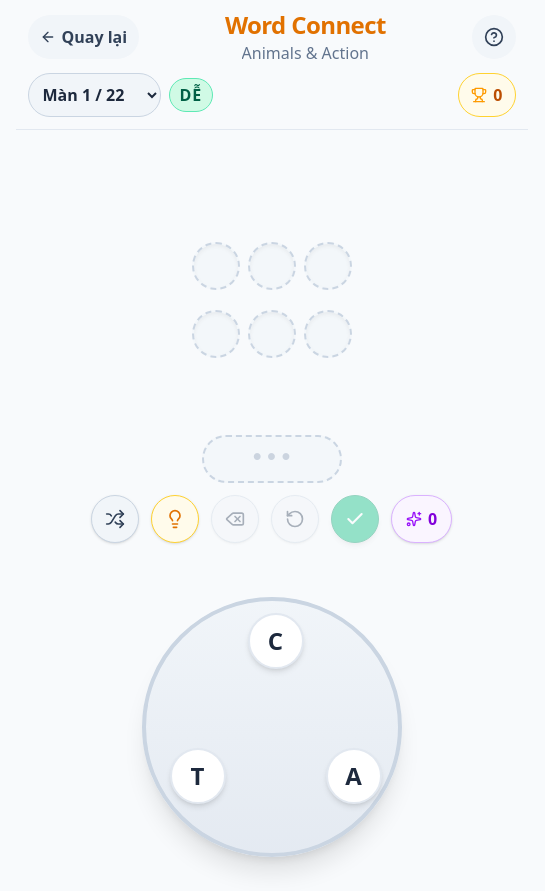
Test case: WordConnectPage Integration Suite › supports backspace and clear controls during letter selection
The width and height of the screenshot is (545, 891).
Click the button named "Chữ cái C" at (276, 641), box [248, 613, 304, 669]
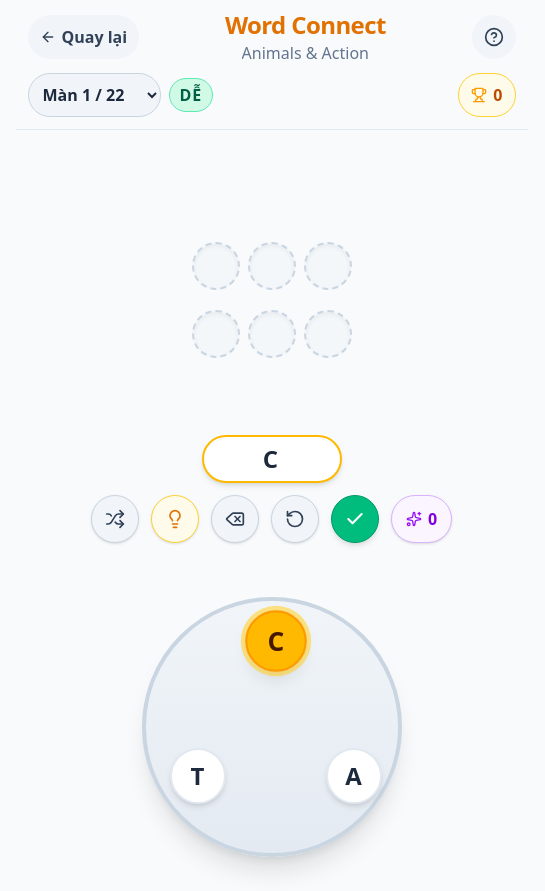
Click the button named "Chữ cái A" at (354, 776), box [326, 748, 382, 804]
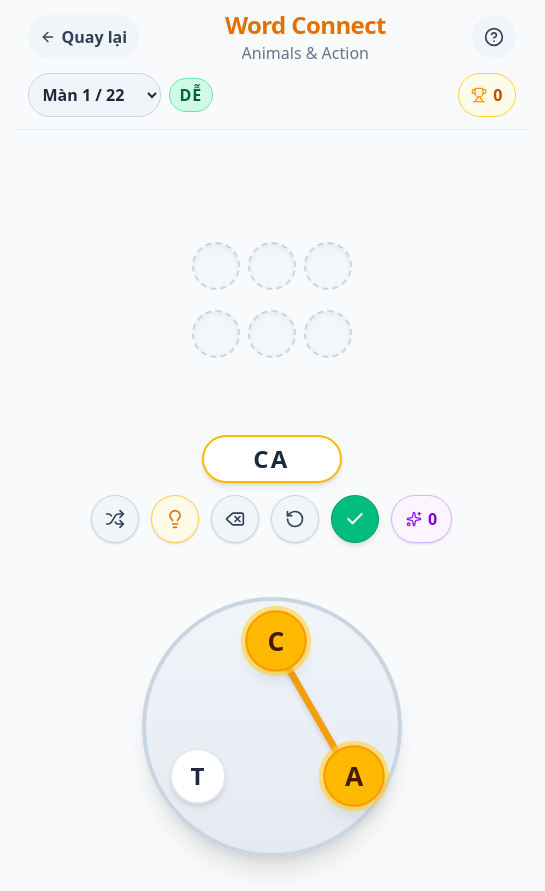
Expected: the text with test id "current-input-display" reads "CA", [253, 442, 290, 475]
Note: Backspace button
Click the button named "Xóa chữ cái vừa chọn" at (235, 519), box [211, 495, 259, 543]
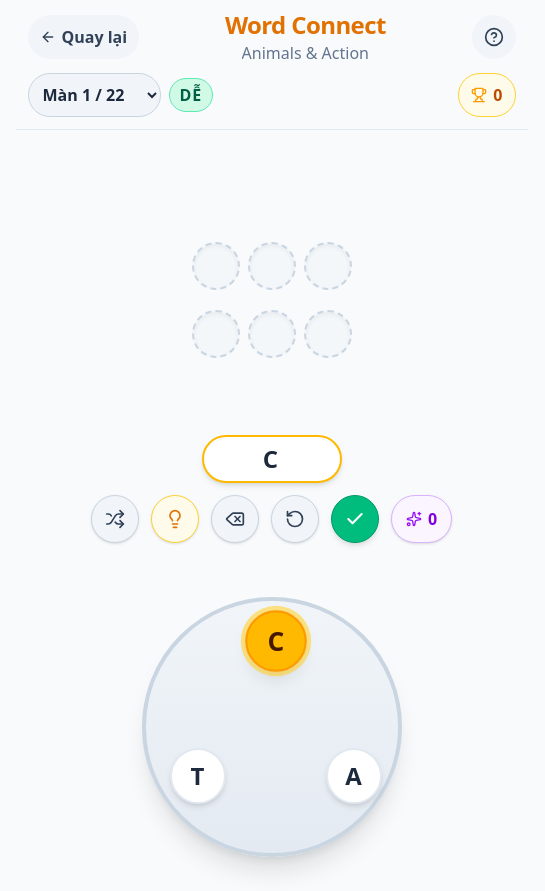
Expected: the text with test id "current-input-display" reads "C", [263, 442, 280, 475]
Note: Add another letter and clear all
Click the button named "Chữ cái T" at (198, 776), box [170, 748, 226, 804]
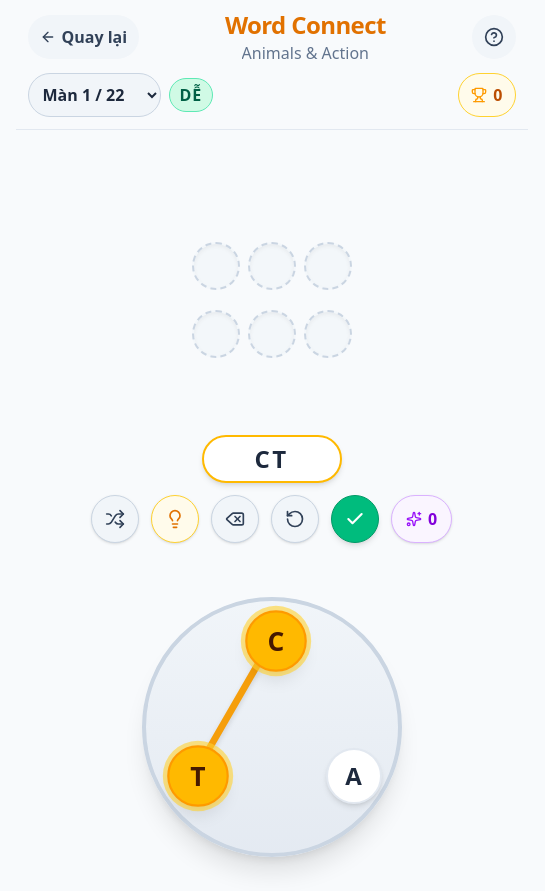
Expected: the text with test id "current-input-display" reads "CT", [254, 442, 288, 475]
Click the button named "Xóa toàn bộ chữ đã chọn" at (295, 519), box [271, 495, 319, 543]
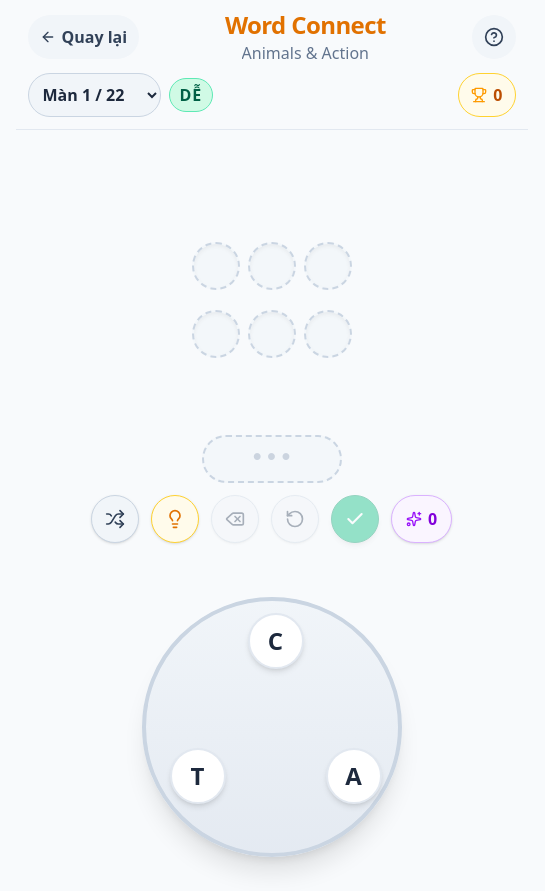
Expected: the element with test id "current-input-display" reads "•••", [250, 445, 293, 472]
